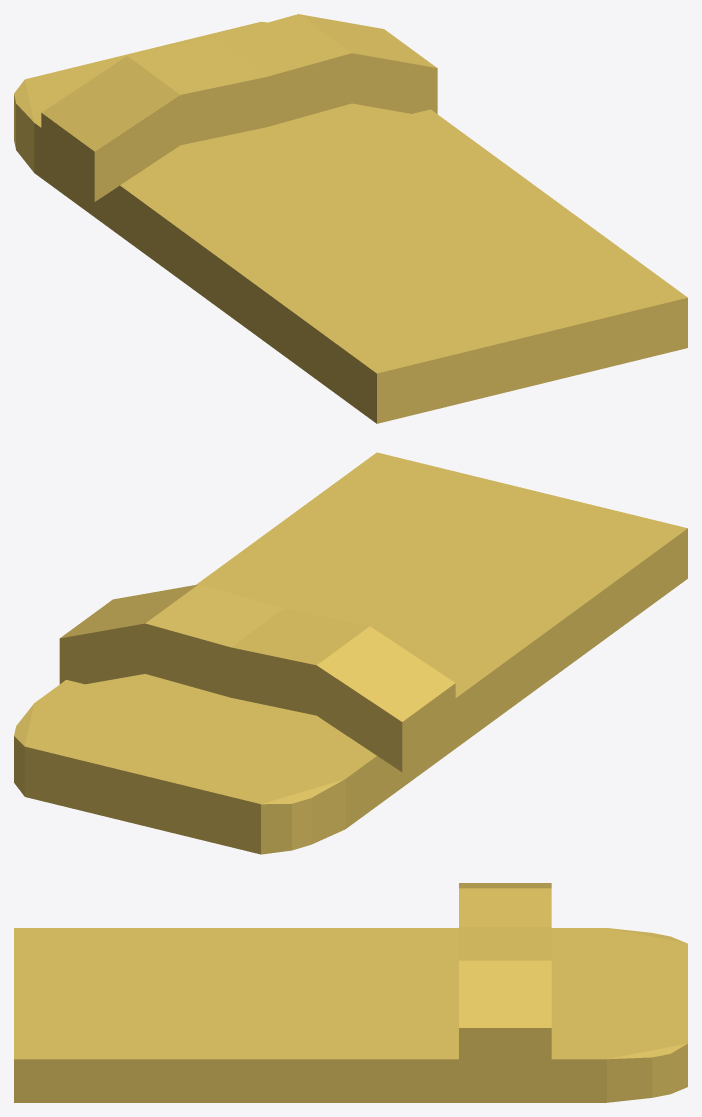
Rendered from Golden Tsinelas.glb.
The picture shows the model from 3 angles, top to bottom: view 1: azimuth 30°, elevation 25°; view 2: azimuth 150°, elevation 25°; view 3: azimuth 270°, elevation 25°; orthographic projection. The views are drawn at different scales.
Parts seen in each view (by area): view 1: Cube, Cube.001; view 2: Cube, Cube.001; view 3: Cube, Cube.001.
Boxes of the visible parts, bbox=[...] form: Cube: bbox=[14, 21, 687, 423]; Cube.001: bbox=[41, 14, 437, 201]; Cube: bbox=[14, 452, 687, 854]; Cube.001: bbox=[59, 584, 455, 772]; Cube: bbox=[14, 928, 687, 1102]; Cube.001: bbox=[459, 883, 551, 1071].
Size of the model in its own units: 0.2377 by 0.0834 by 0.4679.
